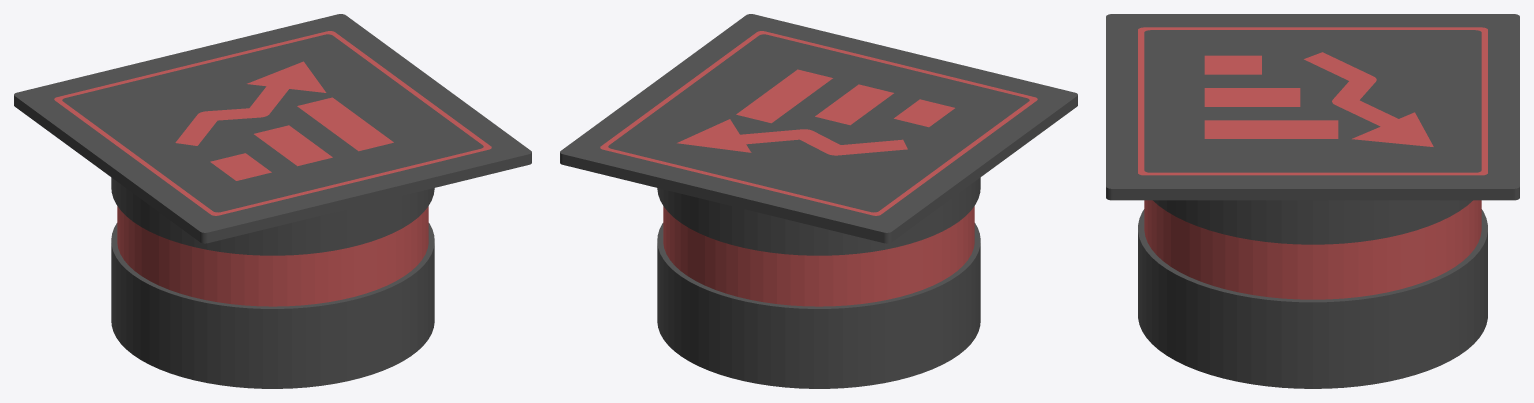
The model's file is bomboniera-economia-facolta-montato.glb.
3 views of the same model, side by side, from view 1: azimuth 30°, elevation 25°; view 2: azimuth 150°, elevation 25°; view 3: azimuth 270°, elevation 25° (orthographic). The views are drawn at different scales.
Visible parts, largest first — view 1: struttura_coperchio, struttura_base, fascia, simbolo_intarsio, bordo; view 2: struttura_coperchio, struttura_base, fascia, simbolo_intarsio, bordo; view 3: struttura_coperchio, struttura_base, fascia, simbolo_intarsio, bordo.
Boxes of the visible parts, box(x1,y1,x2,y2) form: struttura_coperchio: box(14, 14, 531, 255); struttura_base: box(111, 223, 434, 388); fascia: box(117, 206, 428, 306); simbolo_intarsio: box(175, 61, 393, 180); bordo: box(54, 31, 491, 215); struttura_coperchio: box(560, 14, 1077, 255); struttura_base: box(657, 223, 980, 388); fascia: box(663, 206, 974, 306); simbolo_intarsio: box(677, 69, 954, 155); bordo: box(600, 31, 1037, 215); struttura_coperchio: box(1106, 14, 1519, 244); struttura_base: box(1138, 209, 1487, 388); fascia: box(1144, 200, 1481, 299); simbolo_intarsio: box(1204, 52, 1433, 146); bordo: box(1138, 27, 1487, 175).
Size of the model in its own units: 0.065 by 0.037 by 0.065.
